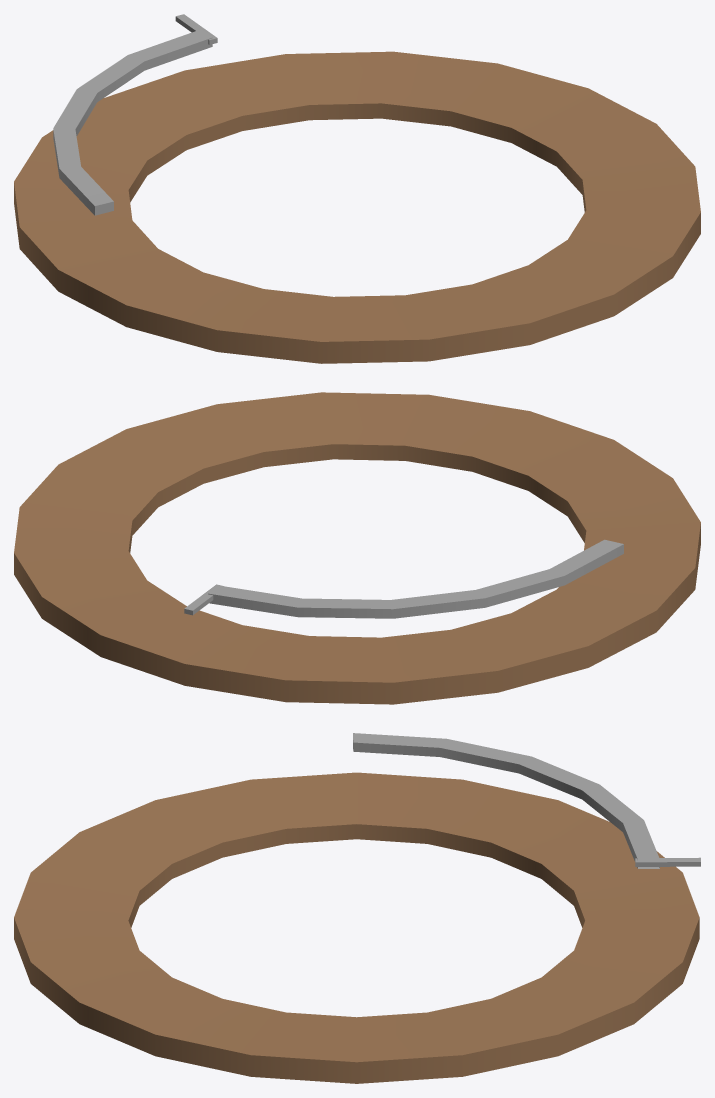
File: node_path_temp.fbx
3 views of the same model, one above another, from view 1: azimuth 30°, elevation 25°; view 2: azimuth 150°, elevation 25°; view 3: azimuth 270°, elevation 25° (orthographic).
Visible parts, largest first — view 1: c3, pCube4; view 2: c3, pCube4; view 3: c3, pCube4.
Boxes of the visible parts, x1,y1,x2,y2 form: c3: (14,51,700,363); pCube4: (53,14,217,215); c3: (14,392,700,704); pCube4: (184,539,623,618); c3: (14,772,699,1083); pCube4: (353,733,700,868).
Bounding box in the file's own units: 44.49 × 5.58 × 44.58.
